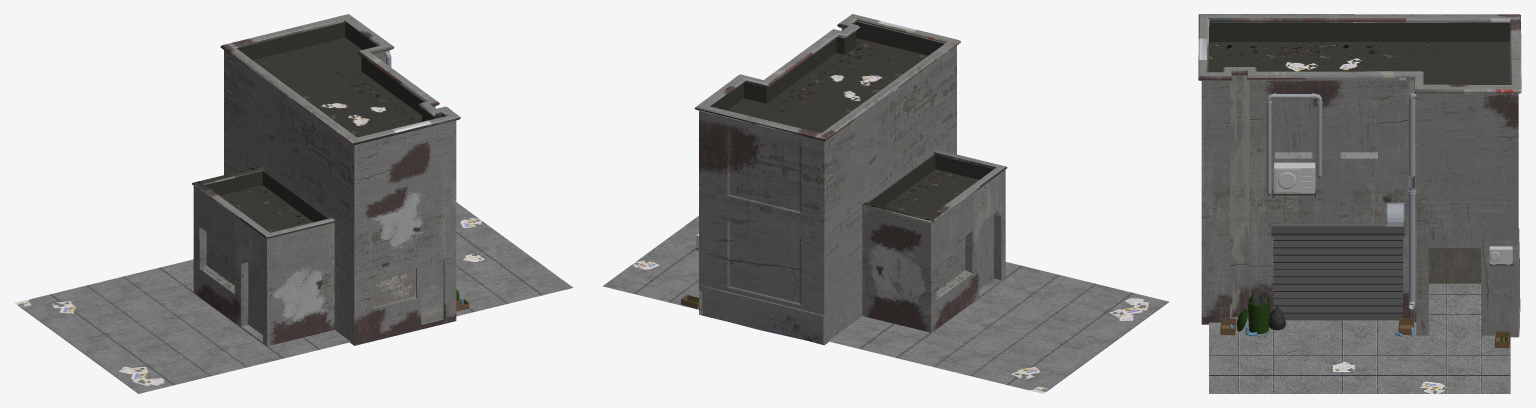
The model's file is CyberBulding_01.fbx.
3 views of the same model, side by side, from view 1: azimuth 30°, elevation 25°; view 2: azimuth 150°, elevation 25°; view 3: azimuth 270°, elevation 25° (orthographic). The views are drawn at different scales.
Visible parts, largest first — view 1: mb_L, floor_L, mb_roof_frame_L; view 2: mb_L, floor_L, mb_roof_frame_L; view 3: mb_L, floor_L, garage_door_L.001, mb_roof_frame_L, pipes_1_L, air cond 2_L.001, pipes_3_L, trash_can__L.001, vent_L.002, air cond 1_L.002, trash bag _L.014.
Boxes of the visible parts, x1,y1,x2,y2 form: mb_L: (193,22,456,346); floor_L: (14,202,573,393); mb_roof_frame_L: (192,14,460,238); mb_L: (699,21,1005,345); floor_L: (603,216,1169,393); mb_roof_frame_L: (694,14,1007,223); mb_L: (1201,22,1520,337); floor_L: (1209,283,1510,393); garage_door_L.001: (1271,224,1404,320); mb_roof_frame_L: (1198,14,1521,93); pipes_1_L: (1407,92,1416,309); air cond 2_L.001: (1273,162,1315,193); pipes_3_L: (1266,93,1322,195); trash_can__L.001: (1236,295,1270,333); vent_L.002: (1386,202,1404,226); air cond 1_L.002: (1489,246,1512,264); trash bag _L.014: (1269,304,1285,330).
Size of the model in its own units: 1262 by 570 by 669.
Materials: 11 (2 with a texture image).
